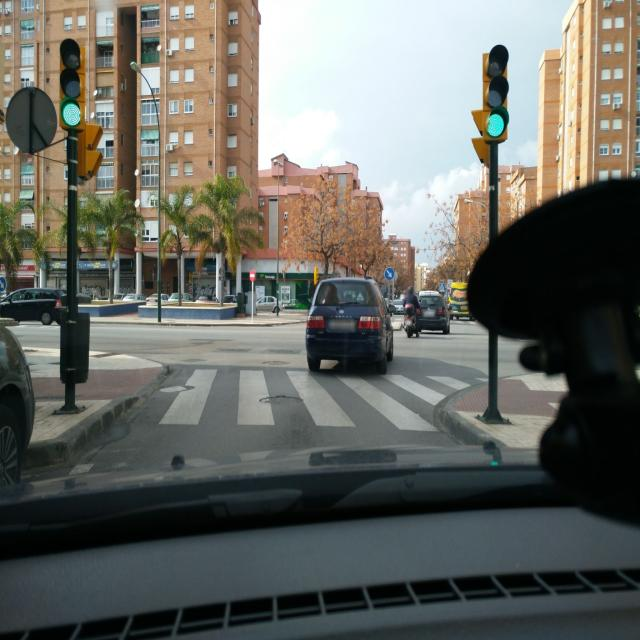bike: (403, 308, 419, 336)
car: (305, 277, 394, 374), (0, 278, 36, 493), (0, 288, 62, 326), (410, 291, 450, 336), (255, 295, 283, 315), (146, 292, 169, 304), (122, 292, 147, 303), (389, 299, 406, 315)
